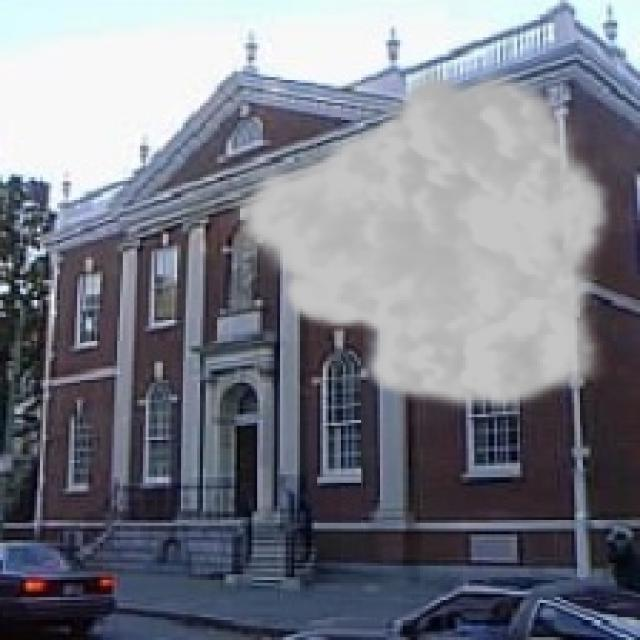Smoke: (226, 60, 614, 417)
